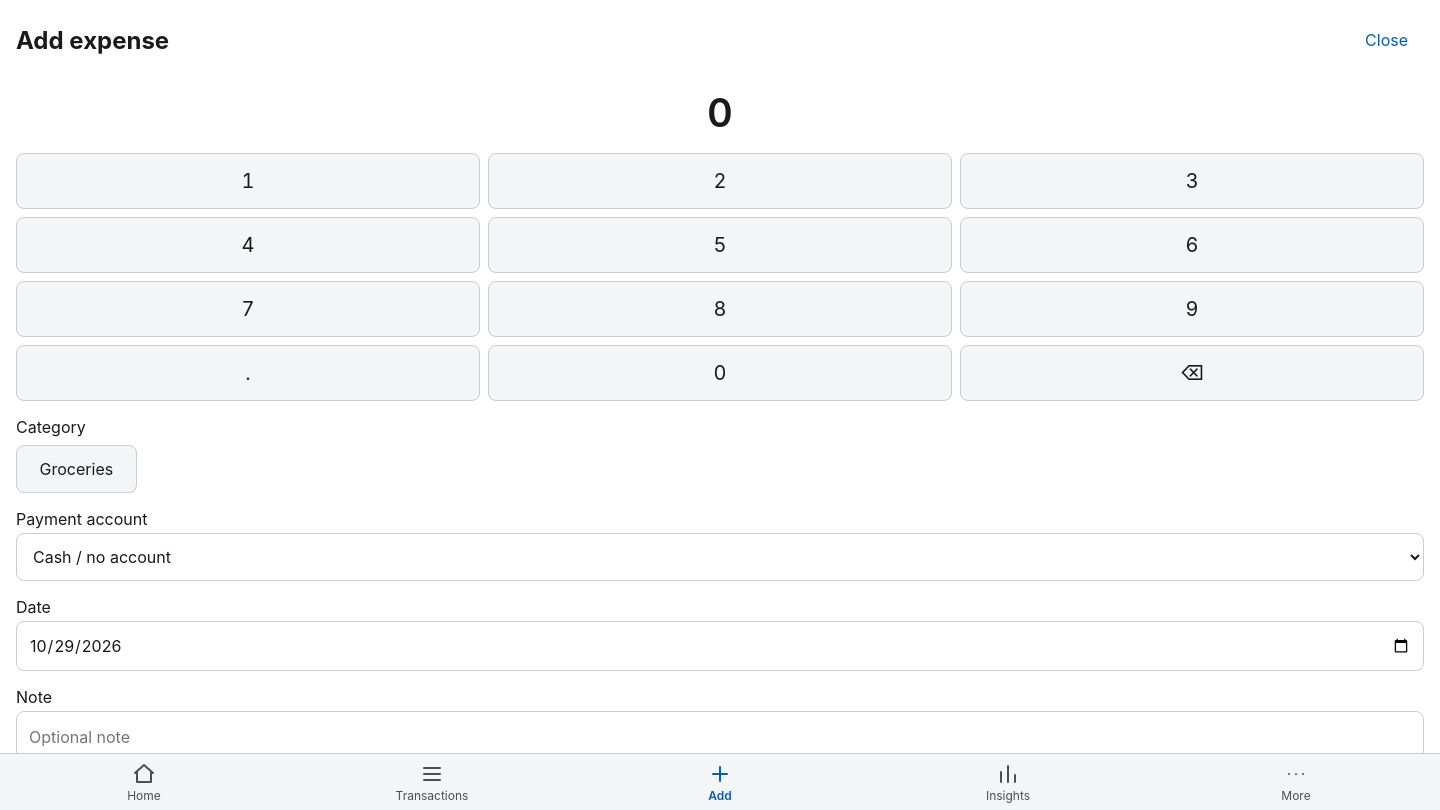
Test: REQ-UI-023 Add hardening › REQ-UI-023 rejects a date more than one day ahead
Click the button "5" at x=720, y=245, box x1=488 y1=217 x2=952 y2=273
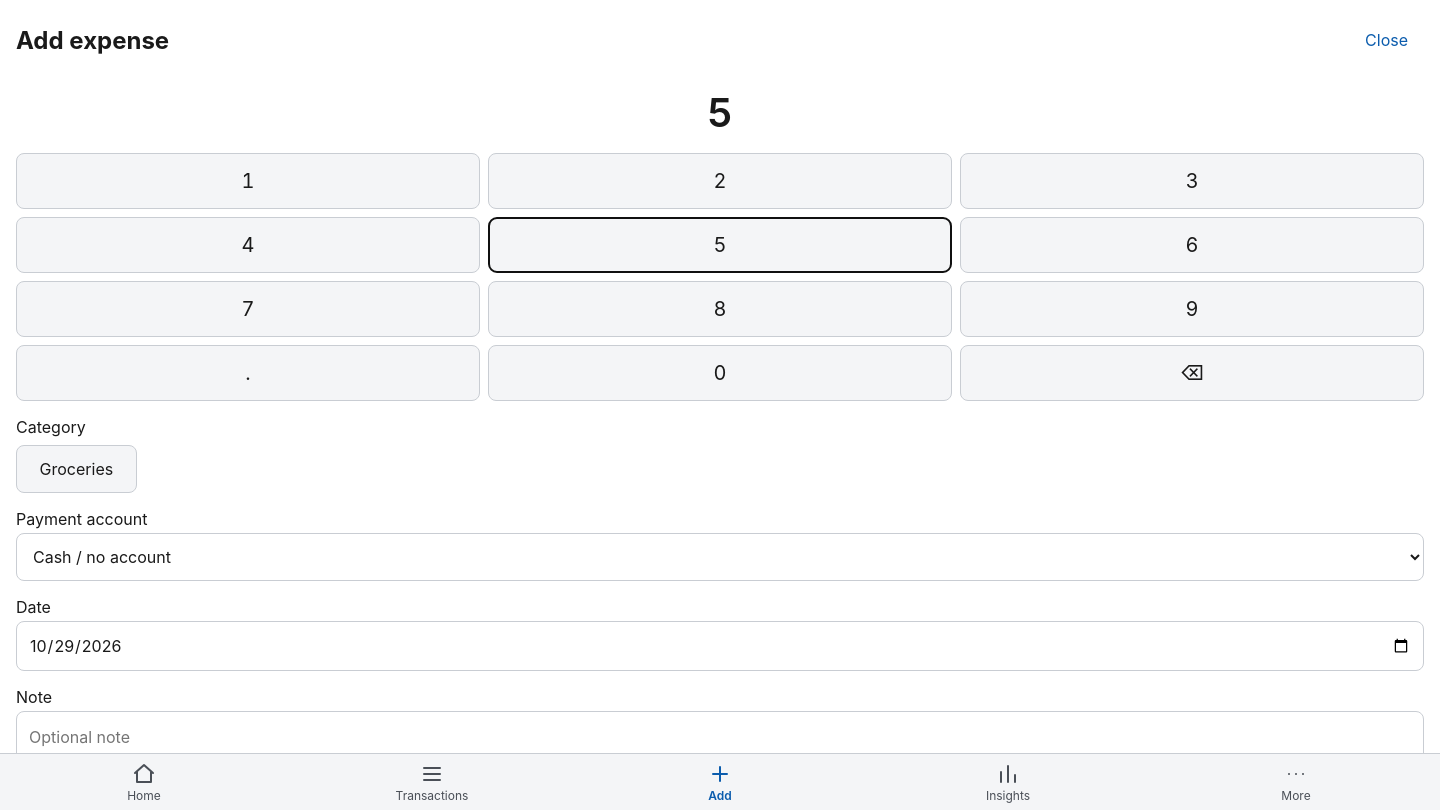
Type "2999-01-01" into the date field labelled "Date" at x=720, y=646, box x1=16 y1=621 x2=1424 y2=671
(page scrolled)
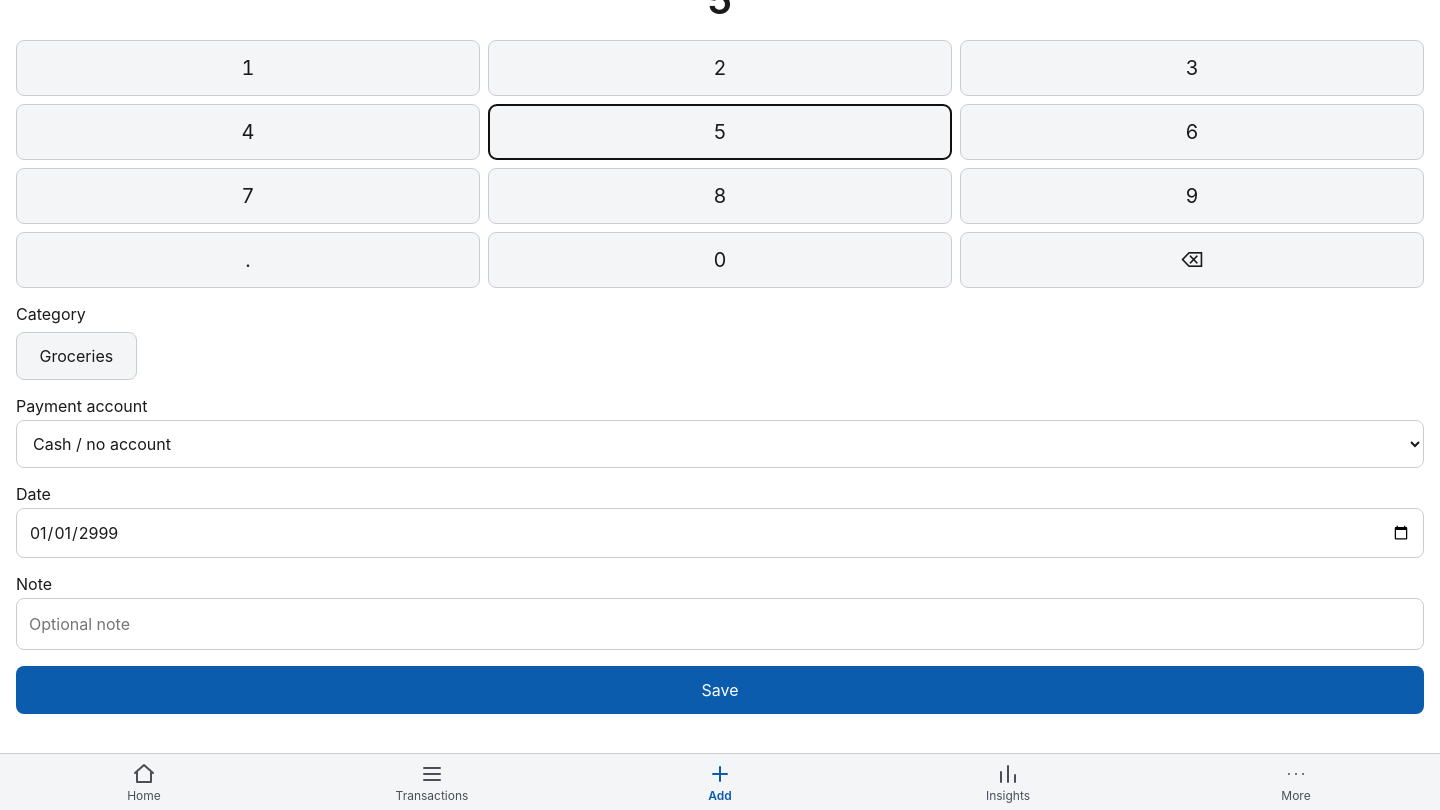
Click the button "Save" at x=720, y=690, box x1=16 y1=666 x2=1424 y2=714
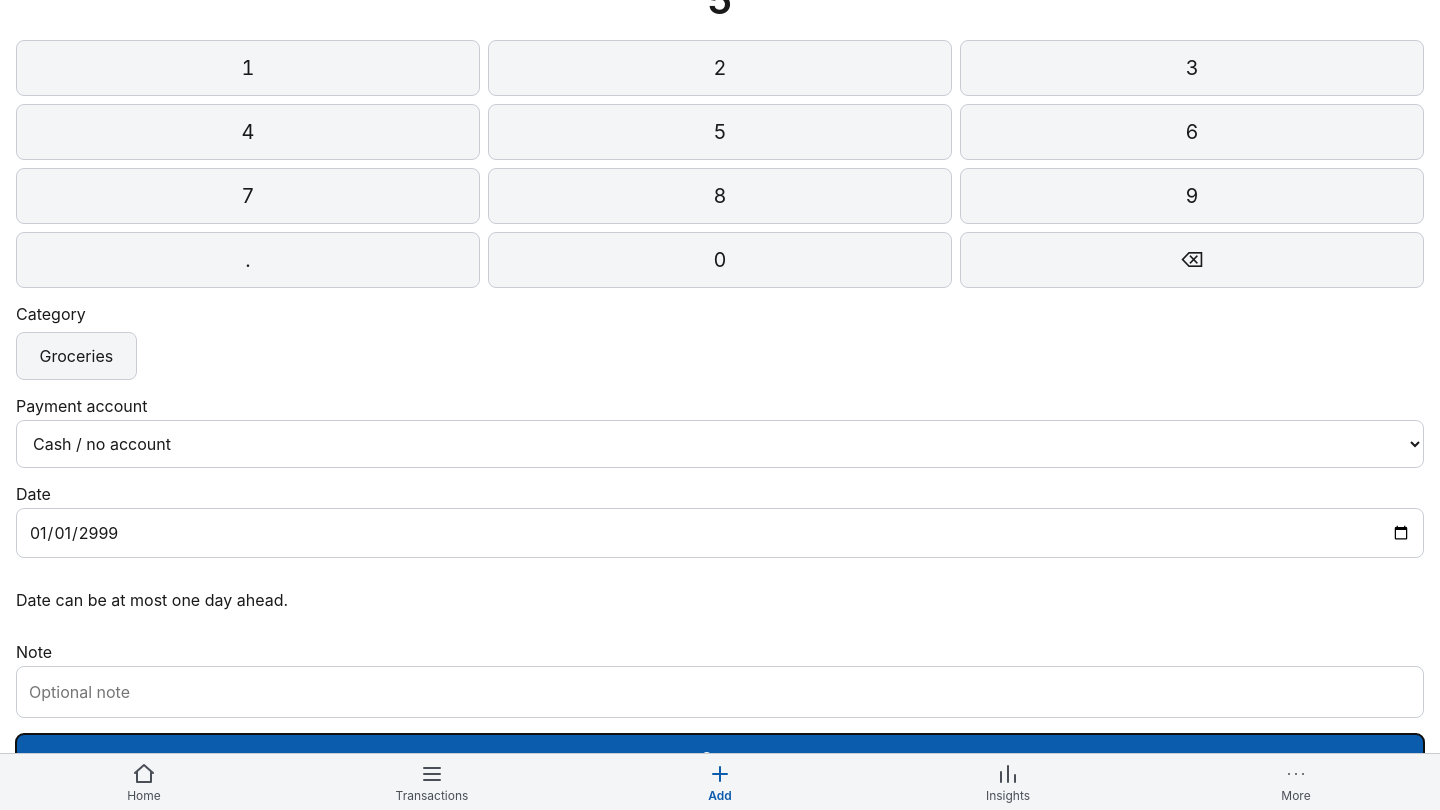
Expected: the text "Date can be at most one day ahead." is shown, x1=16 y1=590 x2=288 y2=610
